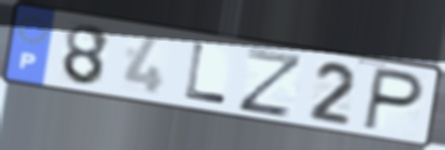2: (308, 61, 359, 128)
4: (119, 33, 170, 97)
8: (60, 22, 111, 88)
L: (182, 40, 229, 106)
P: (360, 64, 427, 134)
Z: (235, 46, 307, 120)
